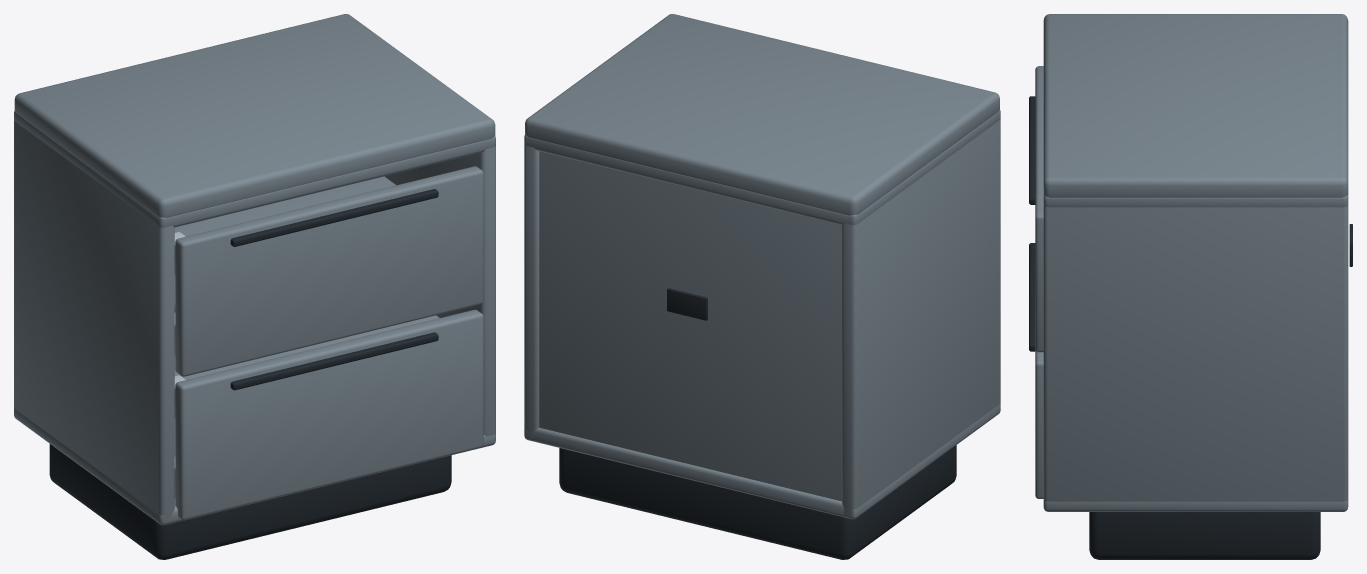
Rendered from drawer-side-table.glb.
The picture shows the model from 3 angles, left to right: view 1: azimuth 30°, elevation 25°; view 2: azimuth 150°, elevation 25°; view 3: azimuth 270°, elevation 25°; orthographic projection. The views are drawn at different scales.
Visible parts, largest first — view 1: catalog_surface_RealismUV, catalog_surface_UVMap; view 2: catalog_surface_RealismUV, catalog_surface_UVMap; view 3: catalog_surface_RealismUV, catalog_surface_UVMap.
Boxes of the visible parts, x1,y1,x2,y2 form: catalog_surface_RealismUV: (14,14,495,525); catalog_surface_UVMap: (49,189,451,559); catalog_surface_RealismUV: (524,14,1000,519); catalog_surface_UVMap: (559,288,956,559); catalog_surface_RealismUV: (1035,14,1348,511); catalog_surface_UVMap: (1029,96,1352,559).
Size of the model in its own units: 0.54 by 0.59 by 0.44.
